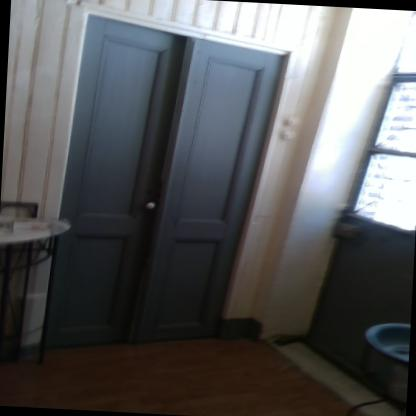closed: (43, 0, 301, 360)
